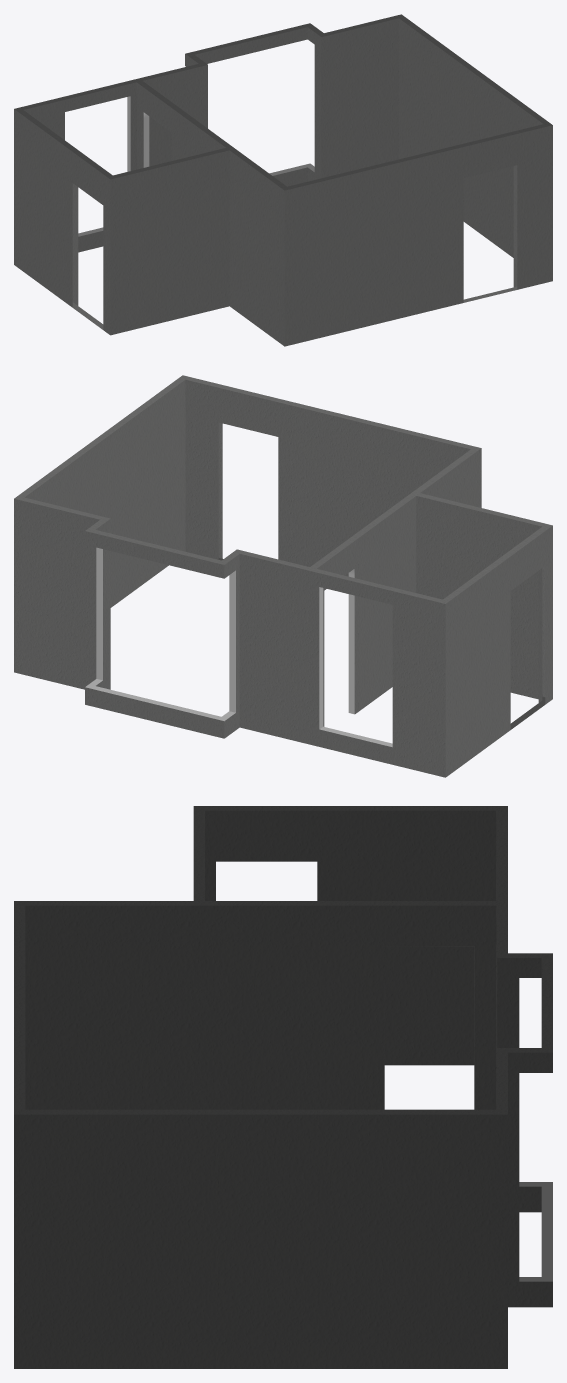
The model's file is FP211:StandardWallSize_3223a881.obj.
3 renders of one model, top to bottom at view 1: azimuth 30°, elevation 25°; view 2: azimuth 150°, elevation 25°; view 3: azimuth 270°, elevation 25°, orthographic. The views are drawn at different scales.
Parts seen in each view (by area): view 1: FP211:StandardWallSize_3223a881; view 2: FP211:StandardWallSize_3223a881; view 3: FP211:StandardWallSize_3223a881.
Boxes of the visible parts, x1=… form: FP211:StandardWallSize_3223a881: x1=14, y1=14, x2=552, y2=346; FP211:StandardWallSize_3223a881: x1=14, y1=375, x2=552, y2=777; FP211:StandardWallSize_3223a881: x1=14, y1=806, x2=552, y2=1368.
Size of the model in its own units: 6.5 by 2.5 by 4.8.
